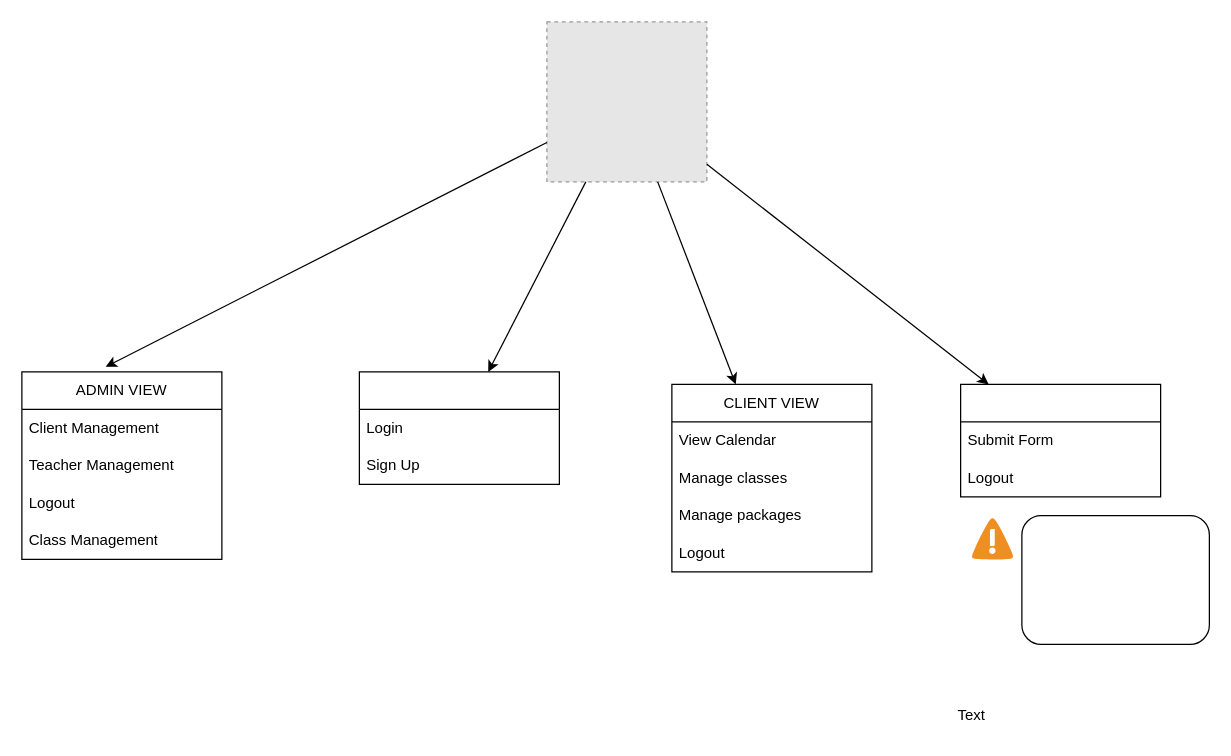
Image size: 1231x756. Some labels were removed from this diagram. Grey dashed boxes stand in for pictures. The box of each missing label's shape, as (x1, y1, x2, y2) in pixels:
ANONYMOUS USER: (358, 371, 559, 484)
USER VIEW: (959, 383, 1161, 497)
